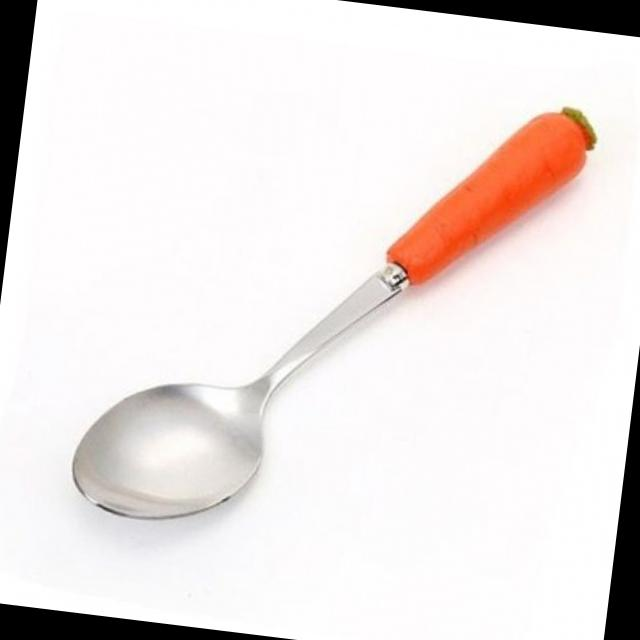spoon: (62, 41, 605, 592)
